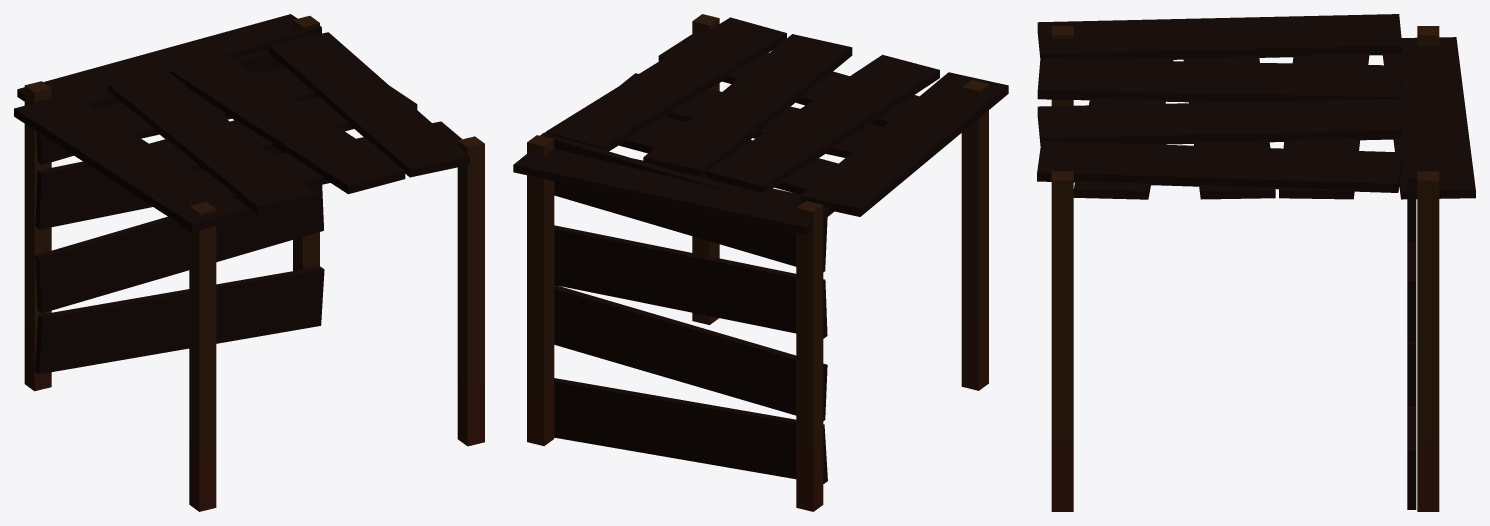
File: Stand2.fbx
3 views of the same model, side by side, from view 1: azimuth 30°, elevation 25°; view 2: azimuth 150°, elevation 25°; view 3: azimuth 270°, elevation 25° (orthographic). The views are drawn at different scales.
Visible parts, largest first — view 1: mergedBlocks; view 2: mergedBlocks; view 3: mergedBlocks.
Boxes of the visible parts, bbox=[...] form: mergedBlocks: bbox=[14, 14, 484, 511]; mergedBlocks: bbox=[513, 14, 1008, 511]; mergedBlocks: bbox=[1037, 14, 1475, 511].
Size of the model in its own units: 11 by 10 by 12.
